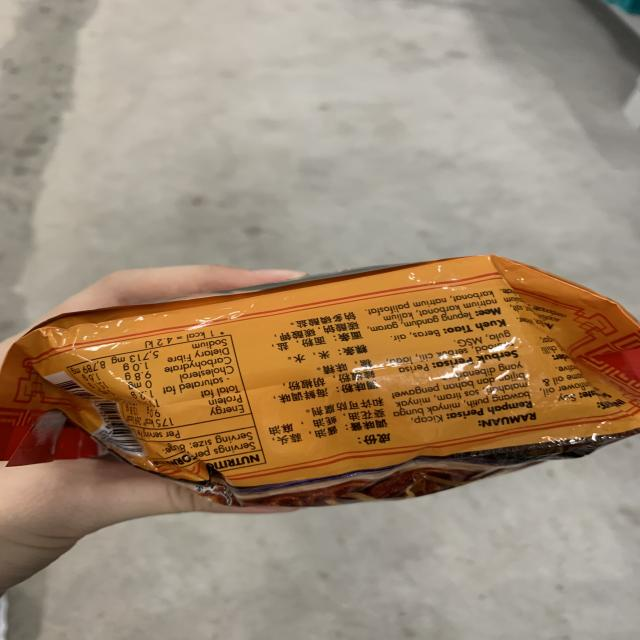object_name: (19, 268, 640, 482)
